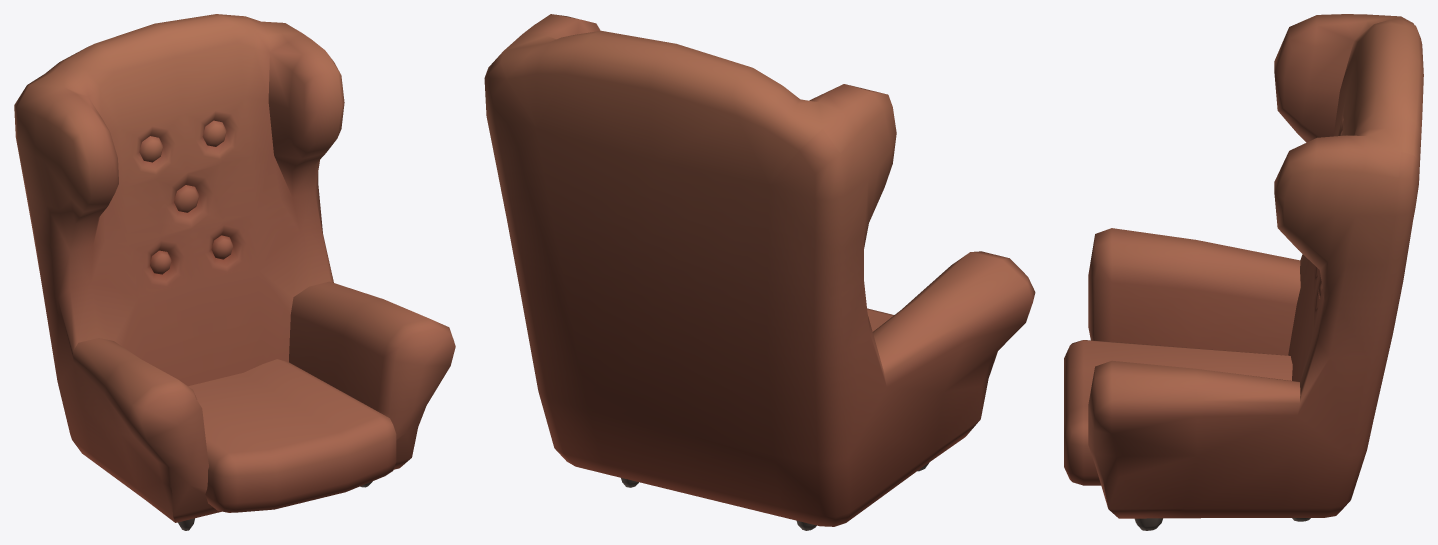
Rendered from chair_large_brown.glb.
3 views of the same model, side by side, from view 1: azimuth 30°, elevation 25°; view 2: azimuth 150°, elevation 25°; view 3: azimuth 270°, elevation 25° (orthographic). The views are drawn at different scales.
Visible parts, largest first — view 1: chair_large_brown; view 2: chair_large_brown; view 3: chair_large_brown.
Boxes of the visible parts, <box> form: chair_large_brown: <box>14,14,455,530</box>; chair_large_brown: <box>484,14,1035,530</box>; chair_large_brown: <box>1064,14,1423,530</box>.
Size of the model in its own units: 1.83 by 2.14 by 1.61.
1 material, 1 textured.
